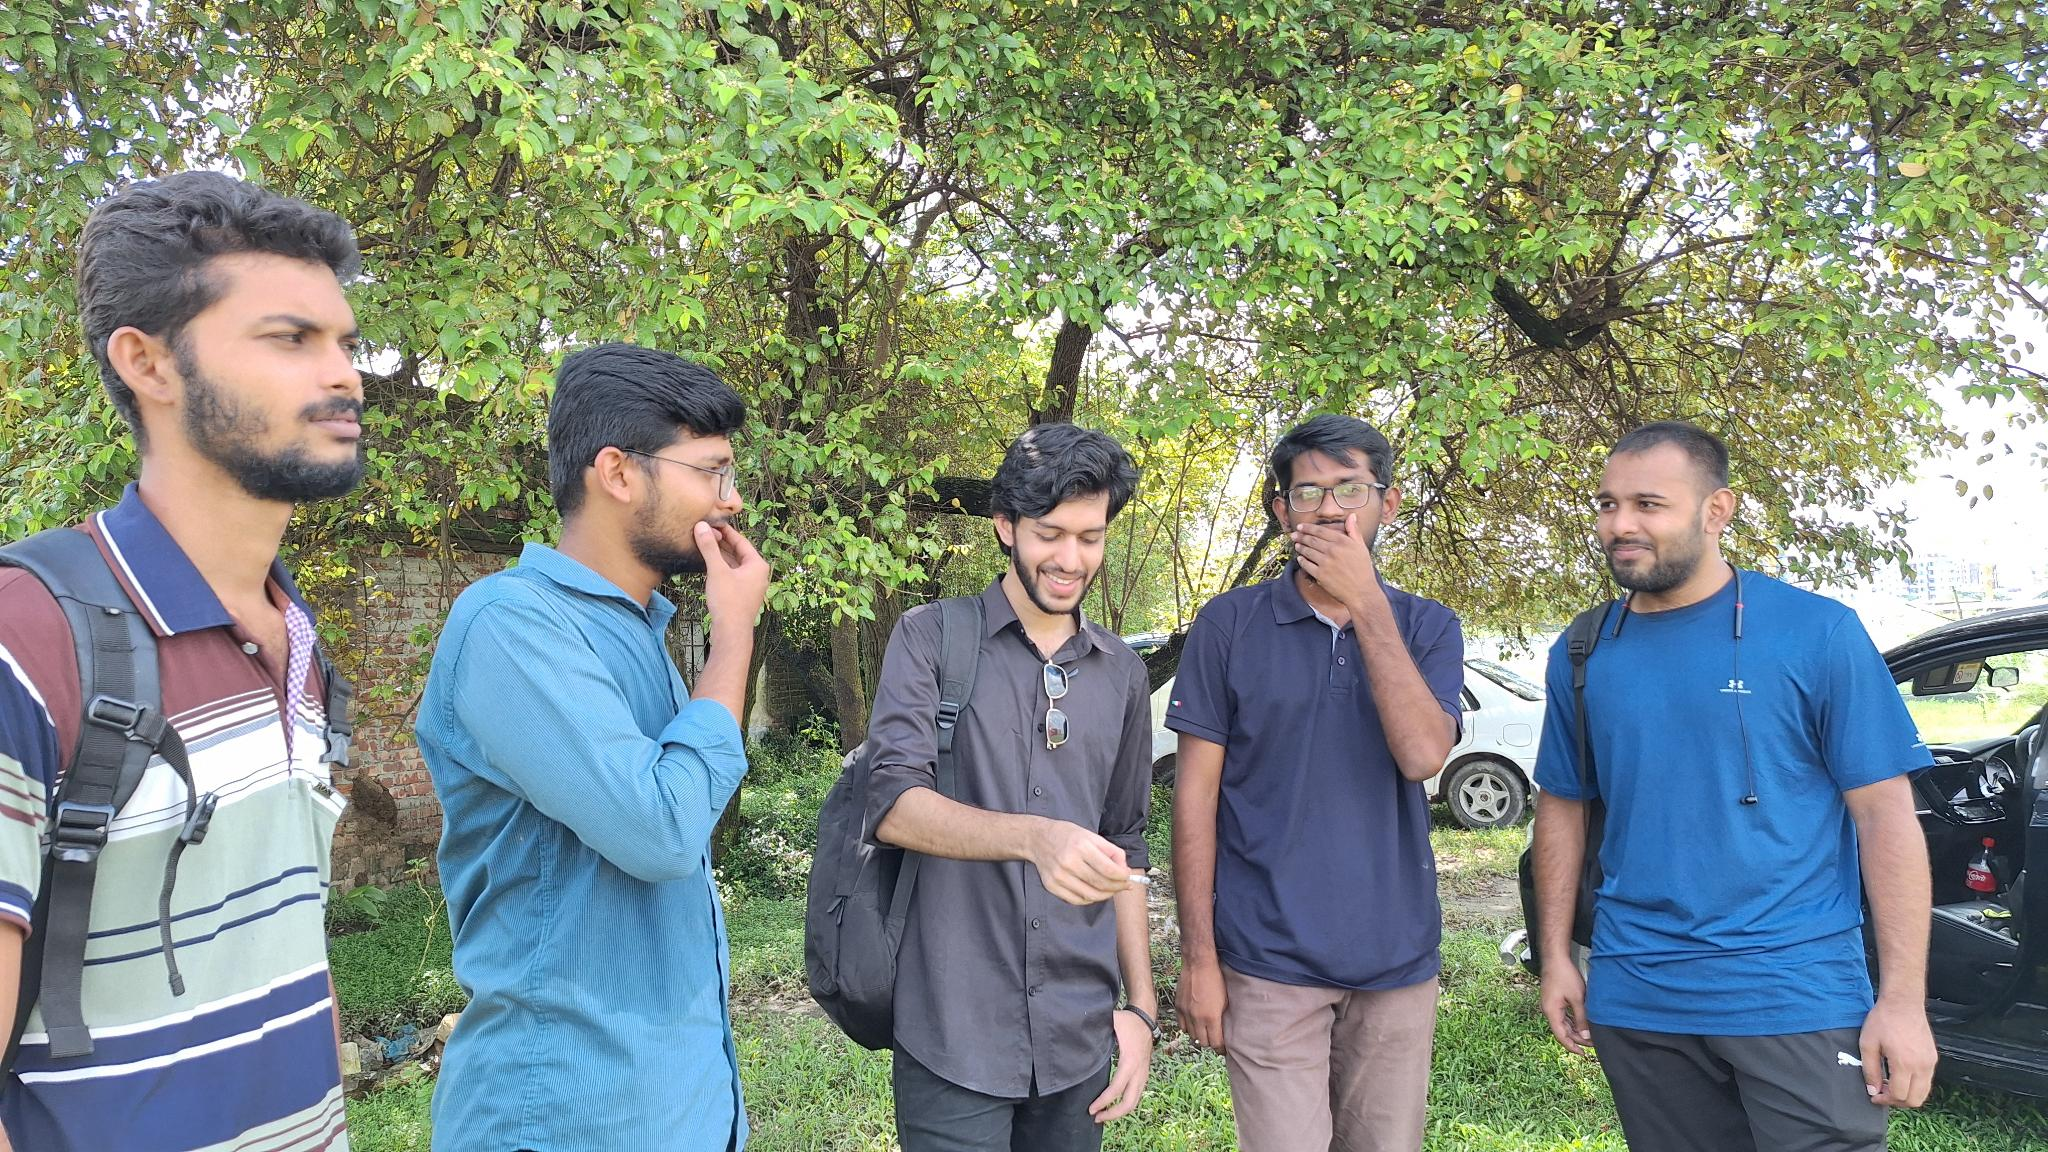cigarette: (1120, 871, 1153, 888)
nonSmoker: (0, 172, 364, 1152), (1532, 421, 1938, 1152), (414, 346, 769, 1152), (1165, 414, 1464, 1152)
smoker: (806, 422, 1162, 1152)
